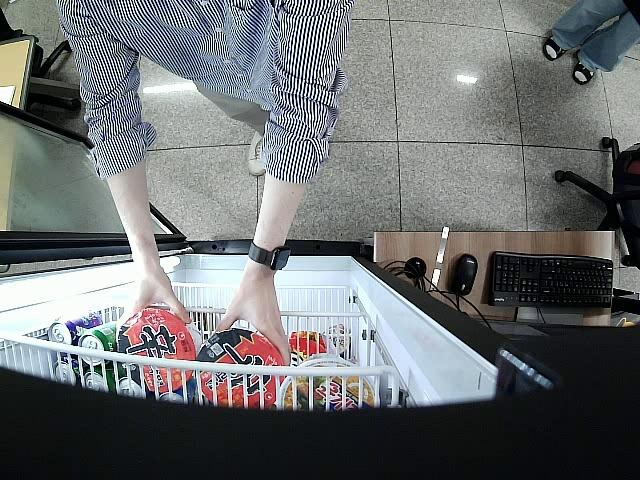00_hand: (216, 290, 292, 366), (115, 276, 192, 344)
01_shinRamen_L: (197, 328, 287, 408), (118, 308, 199, 393)
